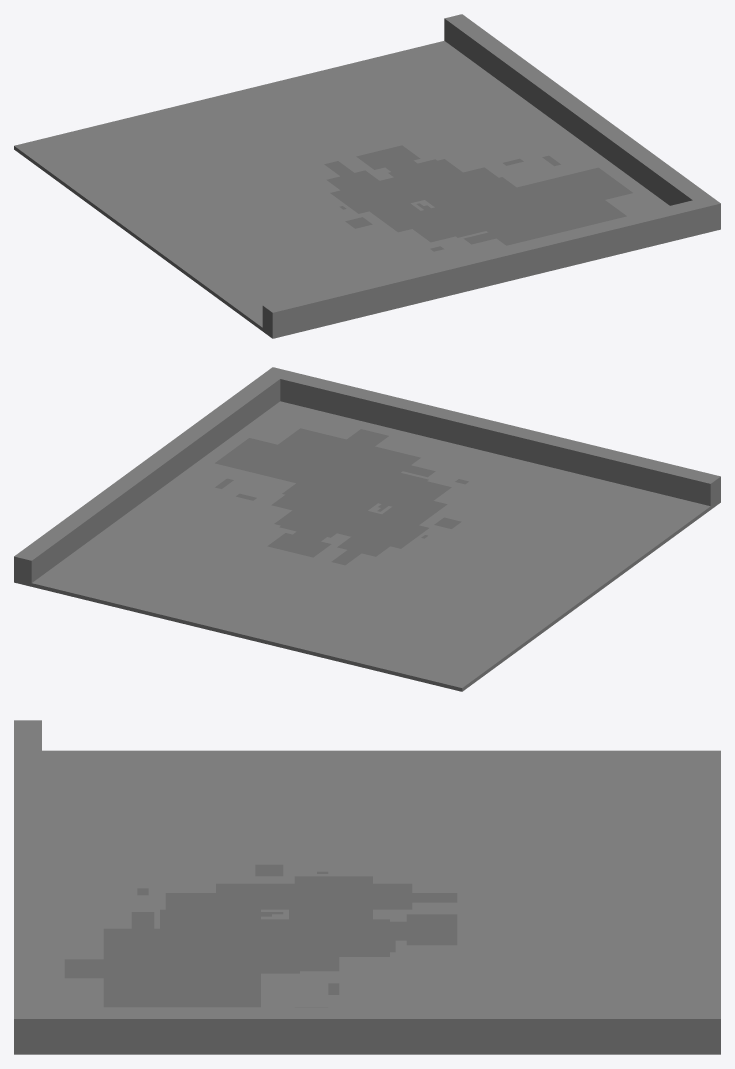
The model's file is 4x2 third (des)-6.obj.
3 renders of one model, top to bottom at view 1: azimuth 30°, elevation 25°; view 2: azimuth 150°, elevation 25°; view 3: azimuth 270°, elevation 25°, orthographic. The views are drawn at different scales.
Visible parts, largest first — view 1: 4x2 third (des)-6; view 2: 4x2 third (des)-6; view 3: 4x2 third (des)-6.
Part boxes in pixels (x1,y1,x2,y2): 4x2 third (des)-6: [14, 14, 720, 338]; 4x2 third (des)-6: [14, 367, 720, 691]; 4x2 third (des)-6: [14, 720, 720, 1054].
Size of the model in its own units: 126 by 7 by 126.
Materials: 1 (1 with a texture image).
